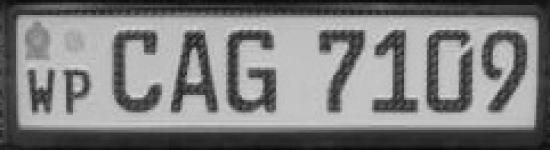0: (424, 26, 476, 116)
1: (370, 24, 422, 117)
7: (314, 21, 371, 120)
9: (479, 25, 530, 116)
A: (167, 26, 220, 116)
C: (109, 24, 166, 116)
G: (224, 24, 281, 116)
P: (61, 64, 93, 115)
W: (22, 64, 61, 117)
